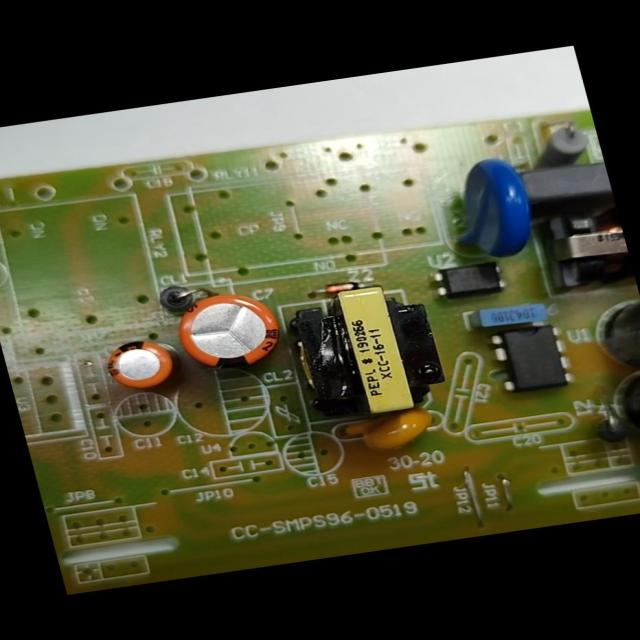Cap1: (157, 282, 300, 379)
Cap2: (88, 329, 188, 403)
Cap3: (580, 289, 640, 381)
Cap4: (604, 364, 640, 450)
MOSFET: (478, 313, 582, 404)
Mov: (434, 150, 547, 269)
Resistor: (523, 116, 597, 175)
Transformer: (264, 274, 464, 433), (522, 197, 638, 304)
